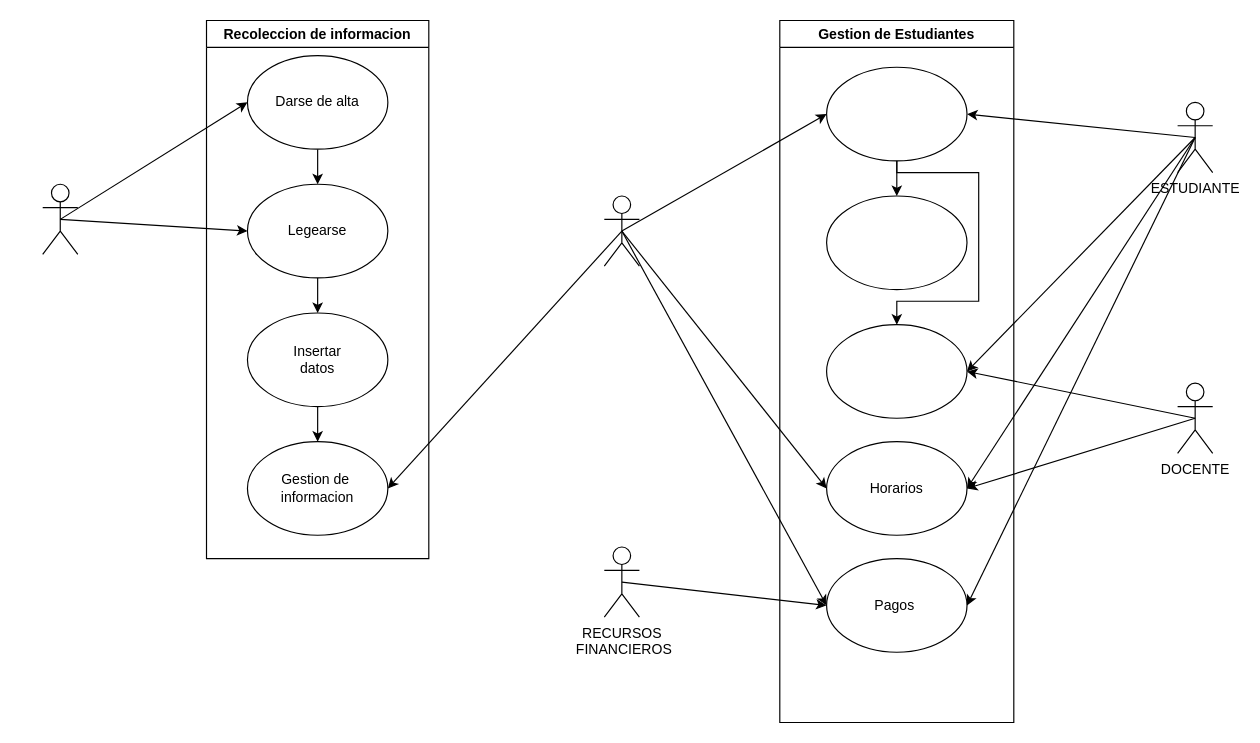
This 1260x743 diagram has some shape labels left out. The shapes that lost their labels are listed below. From the top down, each one's centre as x and y in pixels, then its label:
[896,113]: Logear
[60,218]: ASPIRANTE
[621,230]: ADMINISTRADOR
[896,242]: Inscripciones Reinscripción
[896,371]: Calificaciones
